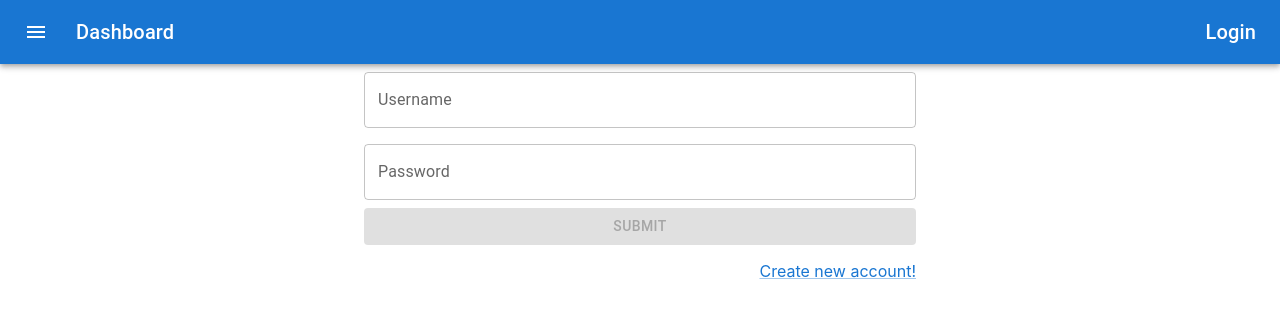
Test case: Login spec › Error text is proper
In the field with id "username": (640, 100) [364, 72, 916, 128], type "ad"
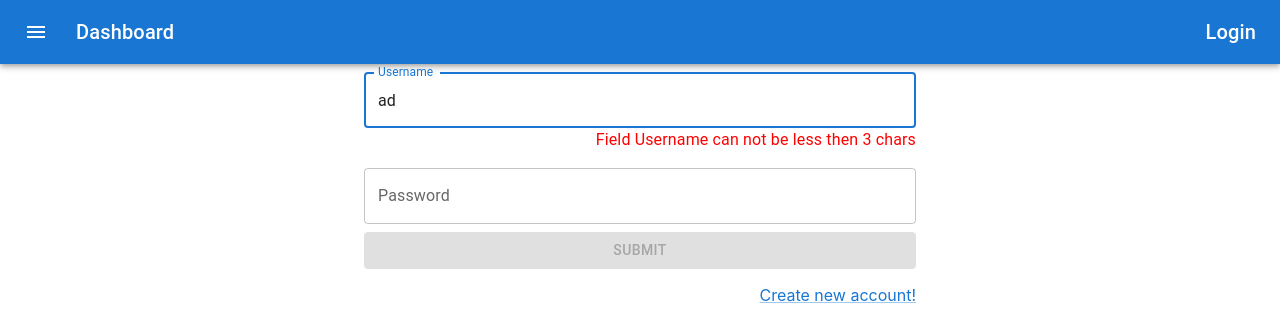
expect the text with id "usererror" reads "Field Username can not be less then 3 chars": met, box [596, 130, 916, 149]
